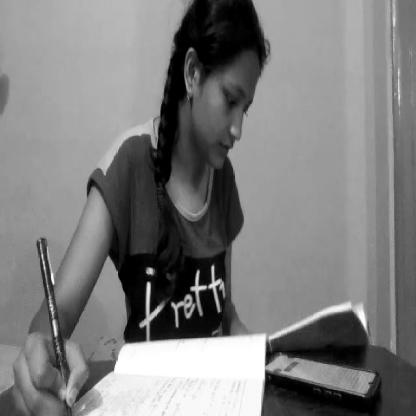Distracted: (164, 0, 272, 181)
